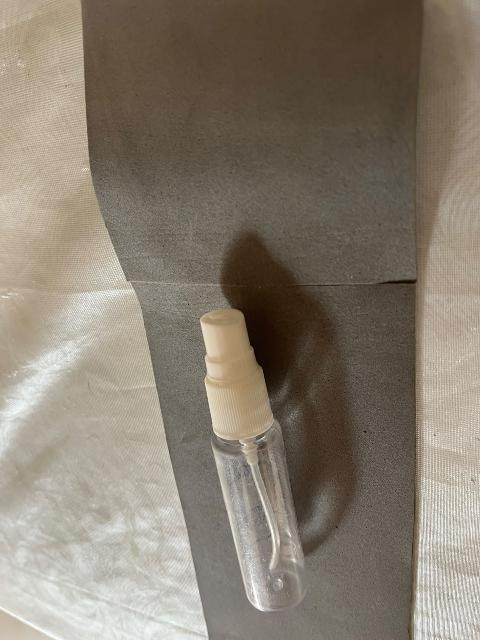PET: (118, 287, 392, 640)
